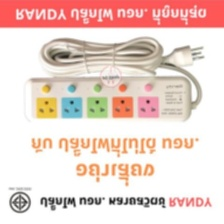three_eye_plug: (21, 73, 194, 126)
